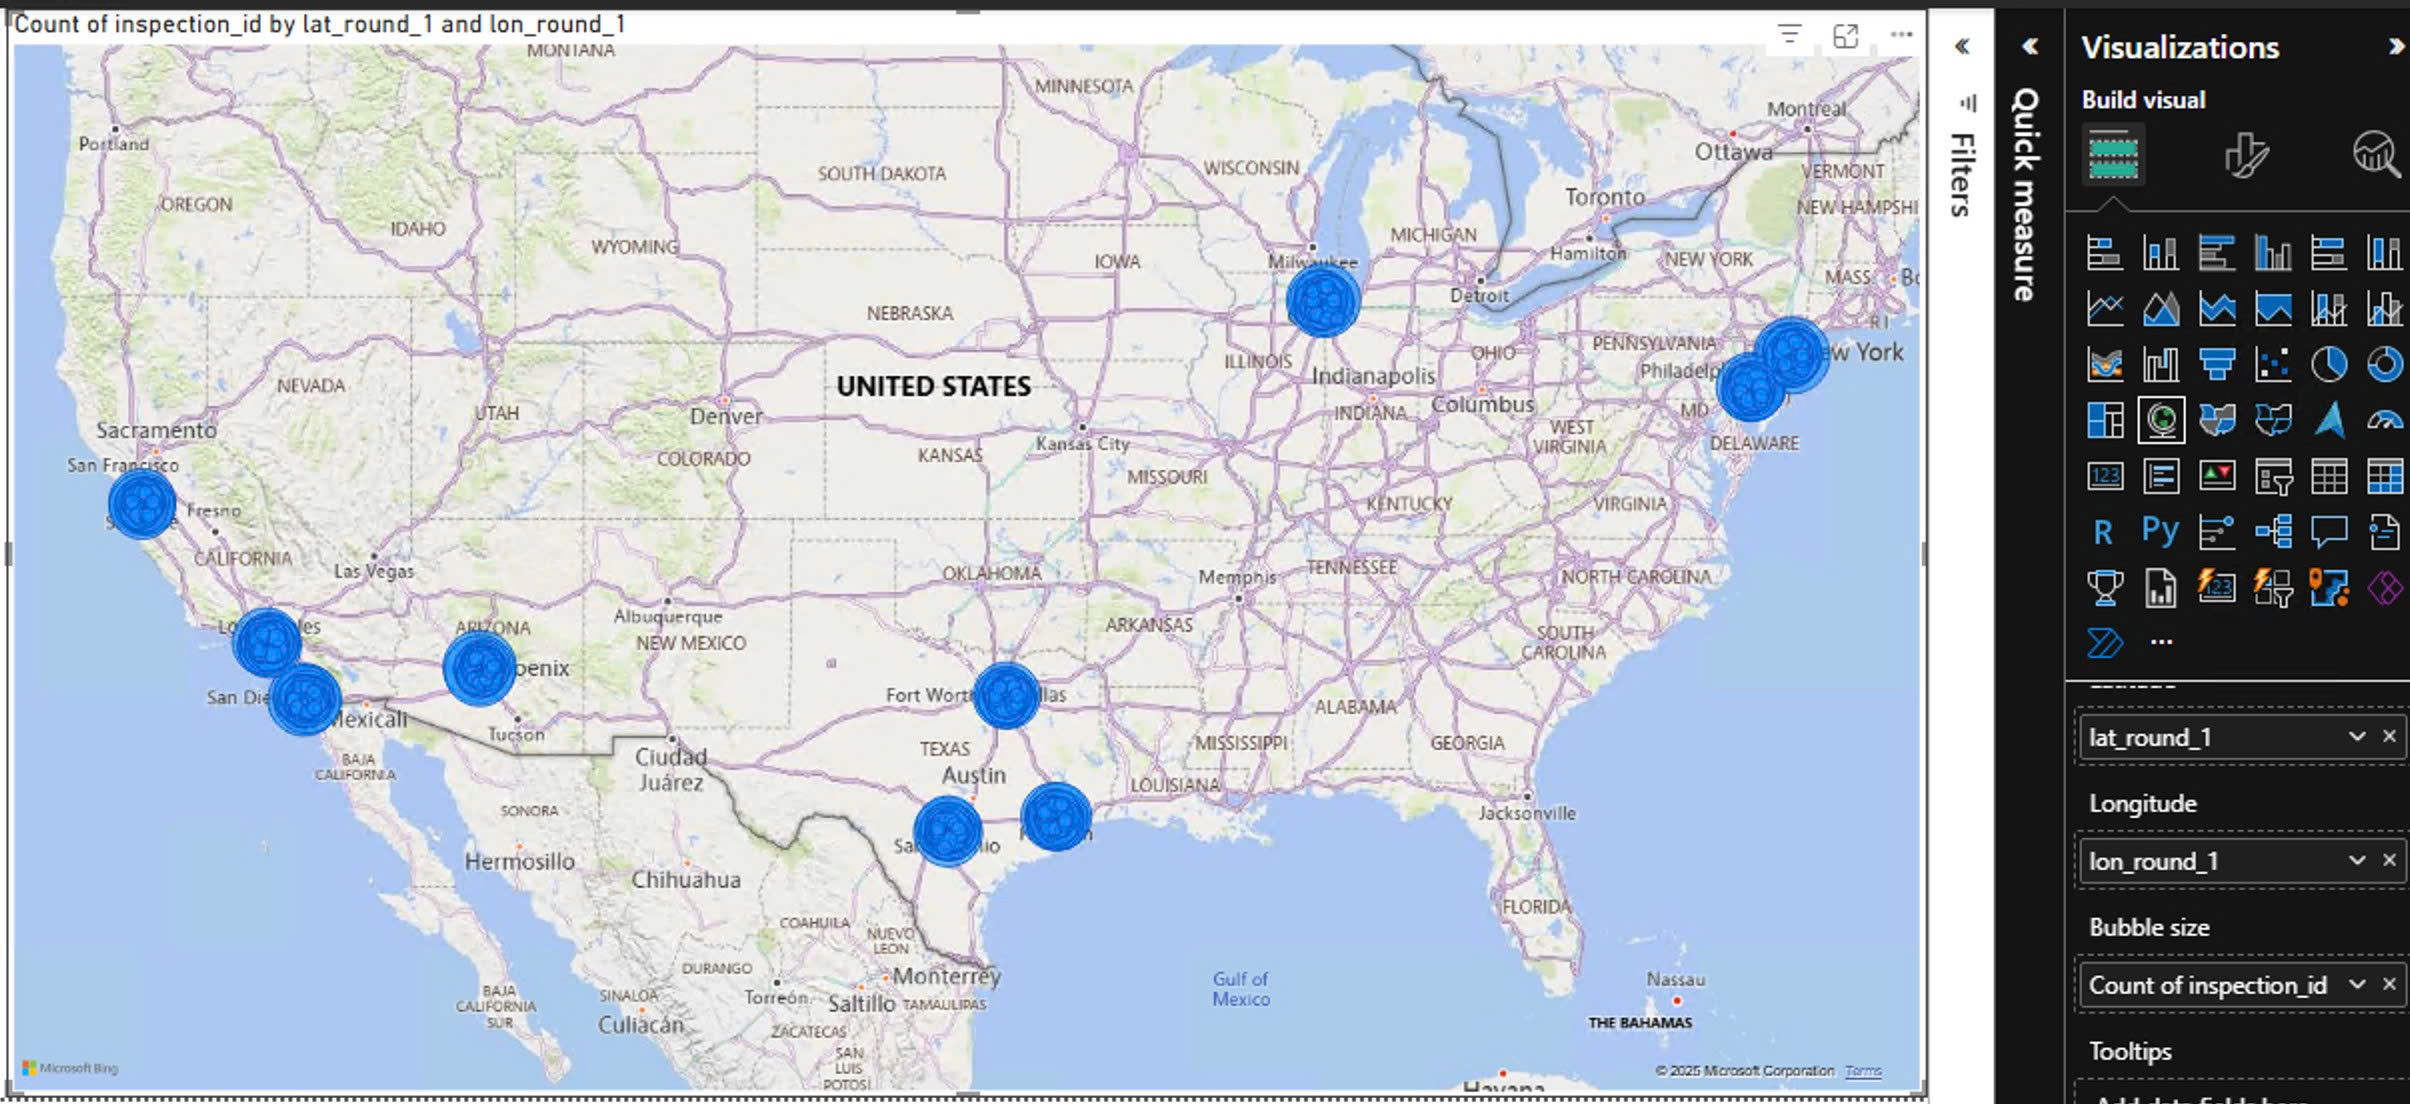

The page's visual inventory and layout, read from the dashboard file:
{"tool":"powerbi","page":{"name":"GEO","canvas":[1280,720],"ordinal":1},"visuals":[{"type":"map","fields":{"Size":["CountNonNull(marts fact_inspection.inspection_id)"],"X":["marts fact_inspection.lon_round_1"],"Y":["marts fact_inspection.lat_round_1"]},"box":[10.7,0,1269.3,719.6],"z":0}]}

Visuals, with their boxes on the page's 1280x720 design canvas (x1, y1, x2, y2). These are canvas units, not pixel positions in the 2410x1104 screenshot, which may show the page scaled, cropped or inside an application window:
map - CountNonNull(marts fact_inspection.inspection_id) x marts fact_inspection.lon_round_1: 11,0,1280,720
